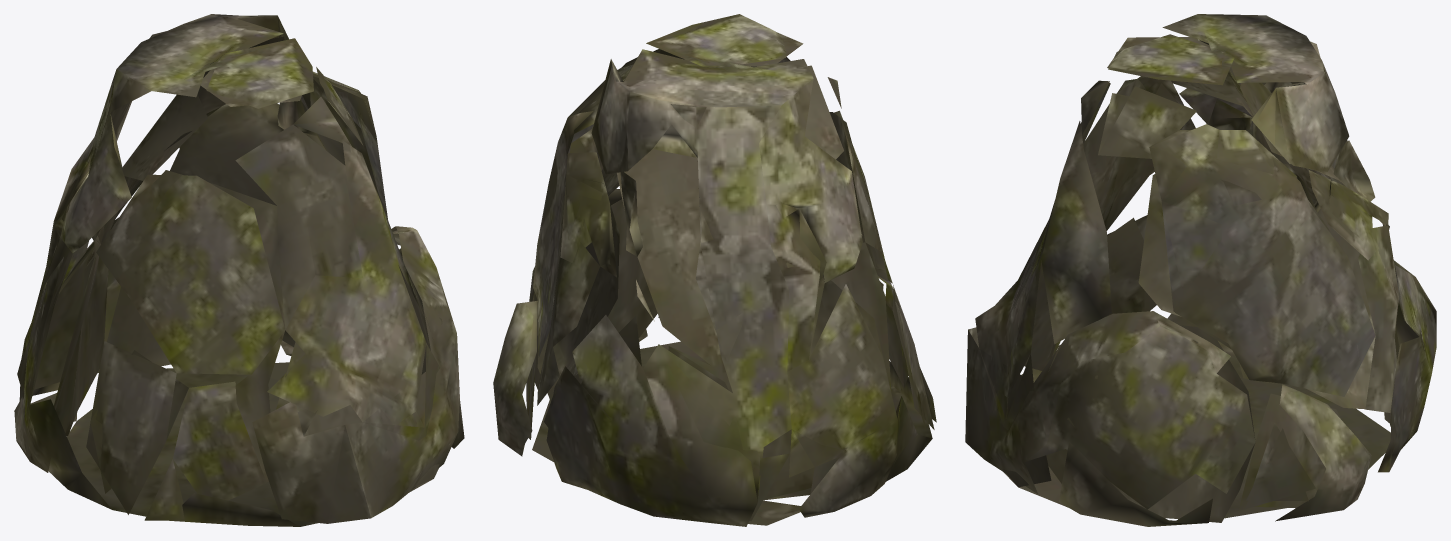
Rendered from boulder-2.phone.glb.
The picture shows the model from 3 angles, left to right: view 1: azimuth 30°, elevation 25°; view 2: azimuth 150°, elevation 25°; view 3: azimuth 270°, elevation 25°; orthographic projection.
Visible parts, largest first — view 1: boulder-2.raw; view 2: boulder-2.raw; view 3: boulder-2.raw.
Part boxes in pixels (x1,y1,x2,y2): boulder-2.raw: (14,14,464,526); boulder-2.raw: (493,14,936,526); boulder-2.raw: (965,14,1436,526).
Bounding box in the file's own units: 2.08 × 2 × 2.2.
Materials: 1 (1 with a texture image).
